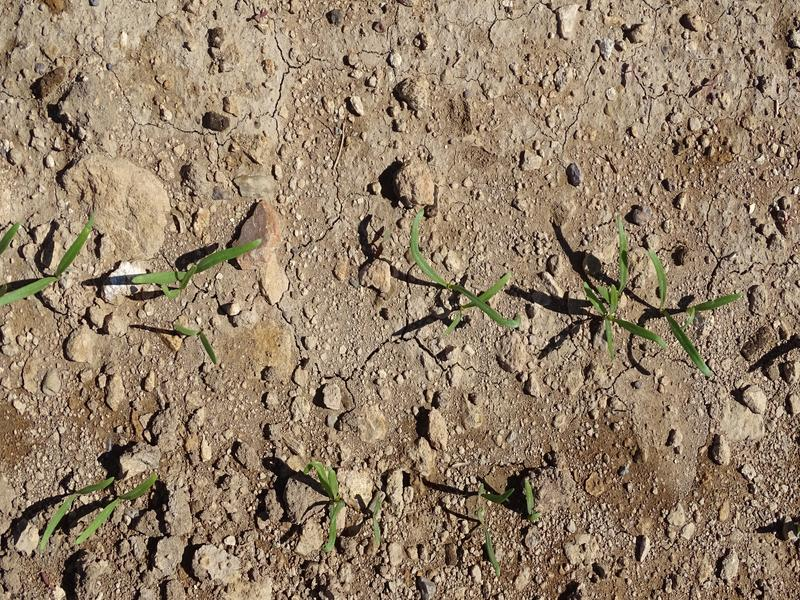Espinaca: (406, 209, 521, 337), (578, 216, 667, 363), (36, 470, 162, 547), (129, 232, 265, 297), (3, 211, 97, 304), (668, 292, 740, 380), (305, 460, 354, 551), (168, 320, 222, 369), (365, 497, 388, 554), (521, 484, 548, 525)
